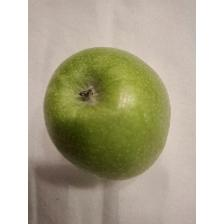Apfel: (42, 44, 174, 182)
